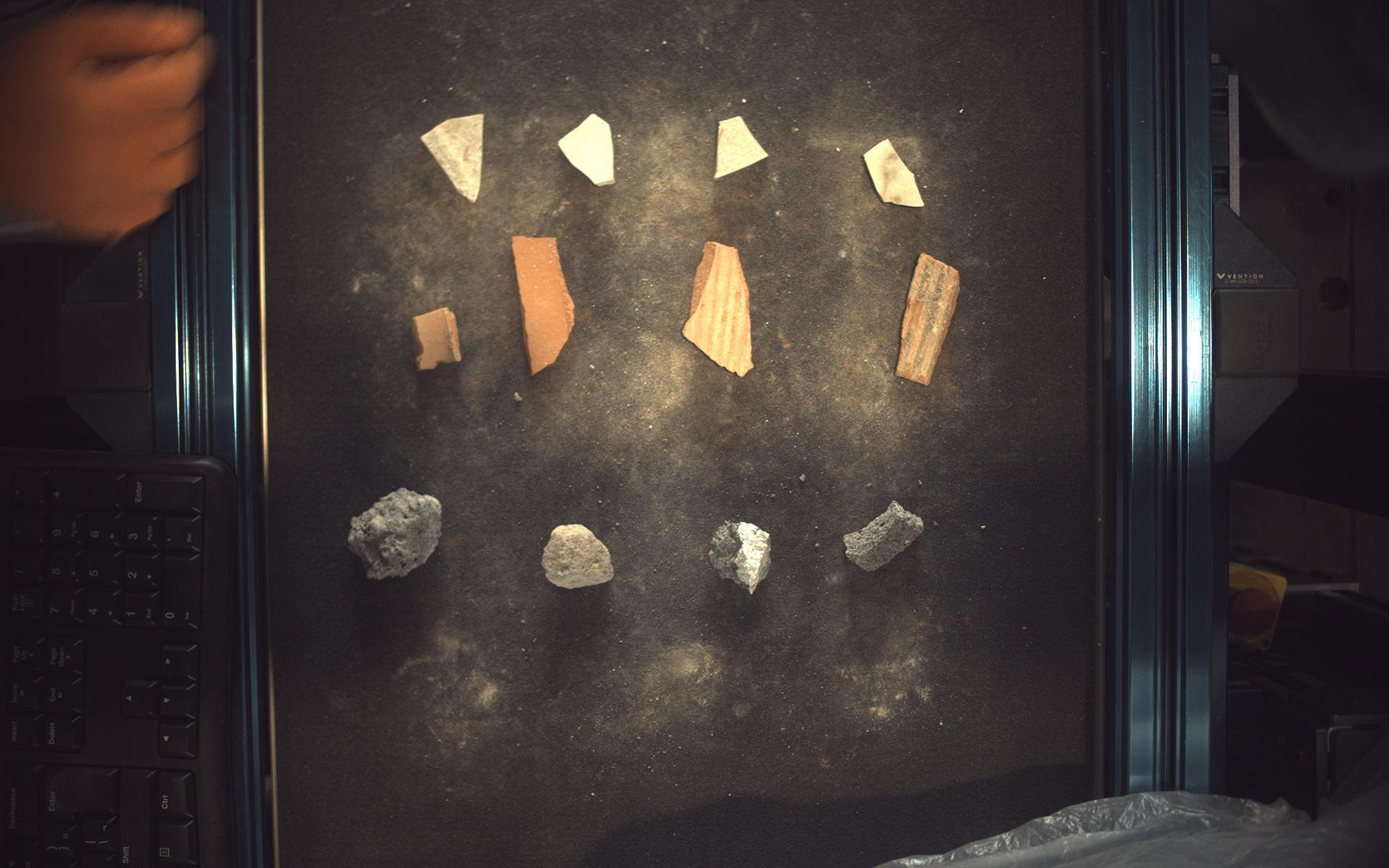brick: (684, 241, 755, 377), (513, 235, 574, 374), (898, 252, 961, 385), (412, 307, 461, 370)
concrete: (349, 488, 441, 580), (845, 501, 925, 572), (543, 524, 615, 590), (711, 522, 771, 595)
tile: (421, 113, 484, 201), (865, 137, 926, 206), (558, 112, 616, 184), (715, 115, 770, 177)
